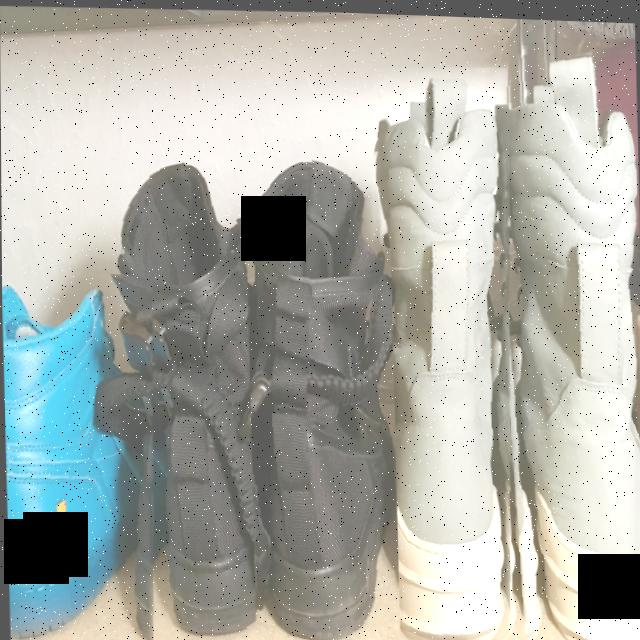shoe: (357, 59, 522, 640), (483, 37, 640, 640), (221, 136, 399, 640), (89, 150, 255, 640), (2, 262, 160, 640)
